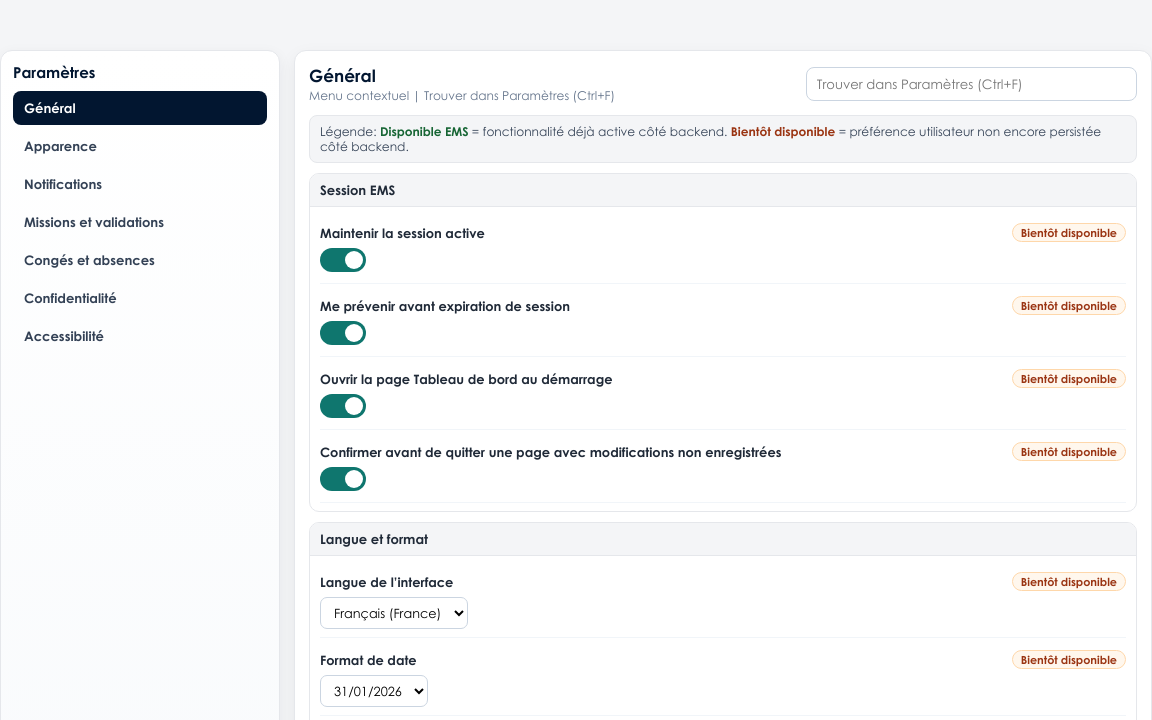
Parametrage › switches section on click
The image size is (1152, 720).
Click the button "Apparence": click(140, 146) top-left (13, 129), bottom-right (267, 163)
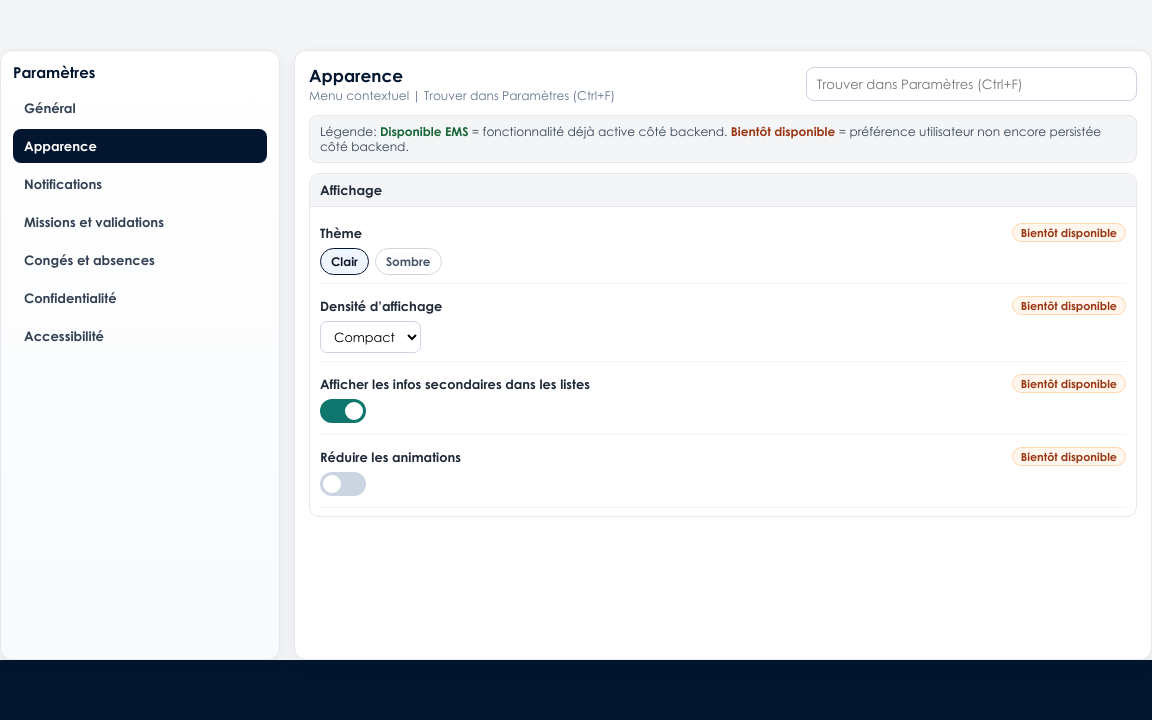
Expected: the text "Affichage" is shown, top-left (310, 174), bottom-right (1136, 207)
